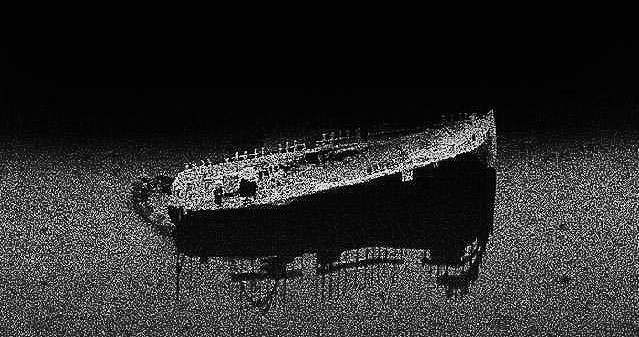ship: (167, 108, 502, 233)
